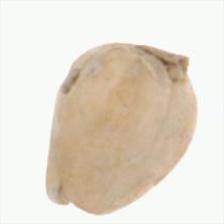L3: (47, 192, 97, 214)
L4: (47, 42, 199, 214)
